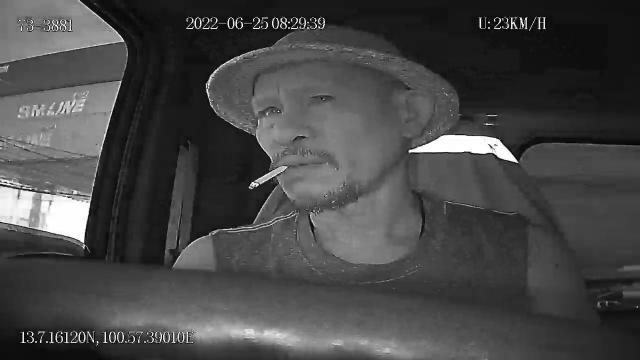SafeDriving: (303, 88, 340, 110), (255, 100, 287, 121)
Smoking: (248, 162, 290, 190)
